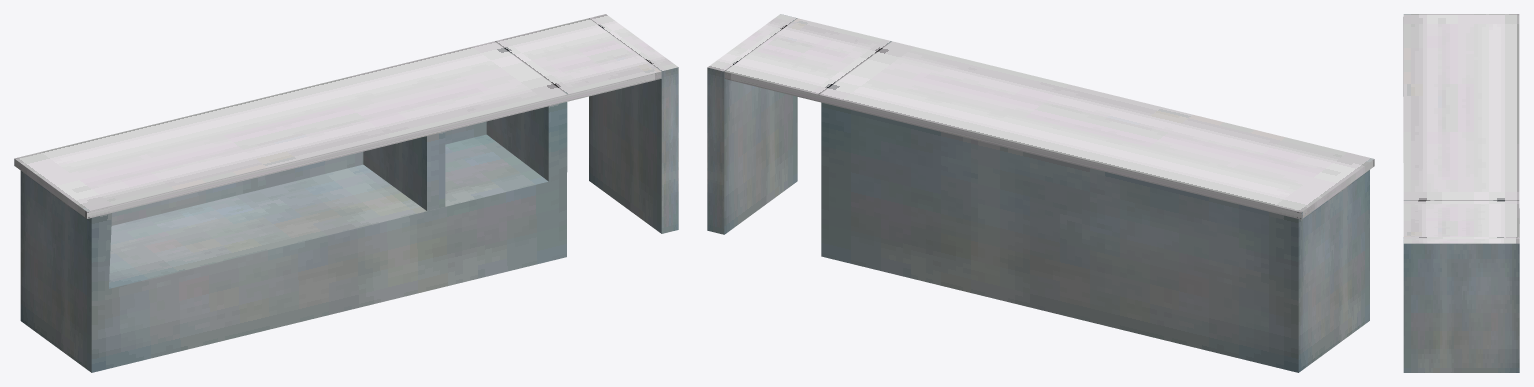
File: frn_bar_piece_straight_s2_l2.fbx
3 renders of one model, left to right at view 1: azimuth 30°, elevation 25°; view 2: azimuth 150°, elevation 25°; view 3: azimuth 270°, elevation 25°, orthographic. The views are drawn at different scales.
Visible parts, largest first — view 1: mesh_node; view 2: mesh_node; view 3: mesh_node.
Boxes of the visible parts, x1,y1,x2,y2 form: mesh_node: [14, 14, 678, 372]; mesh_node: [707, 14, 1374, 372]; mesh_node: [1403, 14, 1519, 372].
Size of the model in its own units: 4.38 by 1.15 by 0.9352.
